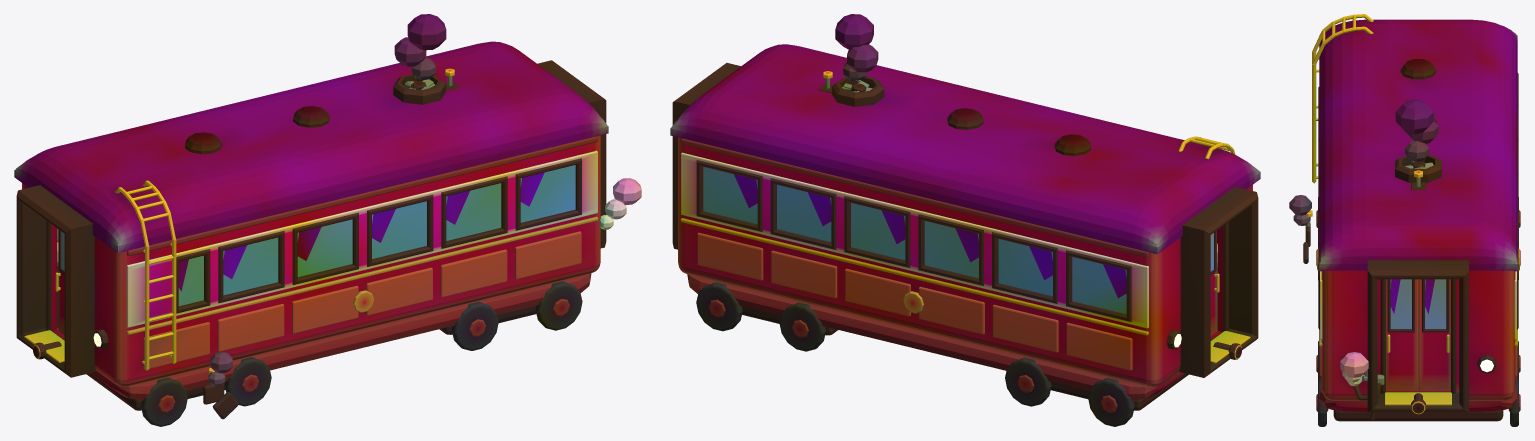
The model's file is DieselCoach_Blockout.glb.
3 views of the same model, side by side, from view 1: azimuth 30°, elevation 25°; view 2: azimuth 150°, elevation 25°; view 3: azimuth 270°, elevation 25° (orthographic). The views are drawn at different scales.
Visible parts, largest first — view 1: Roof, Body, Windows, Livery, Underframe, Ends, WindowBand, RoofLadder, Broken_Bits__Vent, Broken_Bits__BrakeHose, Broken_Bits__AxleBox, EndDoorLeaf_R_Rear; view 2: Roof, Windows, Body, Livery, Underframe, Ends, WindowBand, Broken_Bits__Vent, EndDoorLeaf_L_Rear; view 3: Roof, Body, Ends, Underframe, EndDoorLeaf_L_Front, EndDoorLeaf_R_Front, Broken_Bits__Vent, RoofLadder, Windows, Broken_Bits__BrakeHose, Broken_Bits__AxleBox, WindowBand (+2 smaller).
Part boxes in pixels (bbox=[...]): Roof: bbox=[14, 41, 608, 252]; Body: bbox=[22, 135, 600, 386]; Windows: bbox=[57, 158, 581, 313]; Livery: bbox=[126, 136, 598, 370]; Underframe: bbox=[86, 273, 591, 426]; Ends: bbox=[16, 60, 606, 377]; WindowBand: bbox=[126, 150, 597, 327]; RoofLadder: bbox=[114, 180, 176, 370]; Broken_Bits__Vent: bbox=[394, 14, 446, 89]; Broken_Bits__BrakeHose: bbox=[600, 178, 641, 229]; Broken_Bits__AxleBox: bbox=[208, 351, 238, 419]; EndDoorLeaf_R_Rear: bbox=[55, 229, 64, 335]; Roof: bbox=[670, 44, 1260, 254]; Windows: bbox=[696, 160, 1131, 321]; Body: bbox=[678, 137, 1252, 387]; Livery: bbox=[680, 138, 1148, 370]; Underframe: bbox=[687, 274, 1188, 426]; Ends: bbox=[672, 63, 1258, 377]; WindowBand: bbox=[681, 152, 1148, 328]; Broken_Bits__Vent: bbox=[835, 14, 878, 91]; EndDoorLeaf_L_Rear: bbox=[1210, 230, 1219, 335]; Roof: bbox=[1319, 19, 1517, 270]; Body: bbox=[1321, 270, 1515, 400]; Ends: bbox=[1342, 260, 1496, 412]; Underframe: bbox=[1316, 197, 1520, 426]; EndDoorLeaf_L_Front: bbox=[1386, 279, 1418, 390]; EndDoorLeaf_R_Front: bbox=[1418, 279, 1450, 390]; Broken_Bits__Vent: bbox=[1395, 99, 1438, 168]; RoofLadder: bbox=[1312, 14, 1373, 183]; Windows: bbox=[1318, 73, 1518, 329]; Broken_Bits__BrakeHose: bbox=[1340, 352, 1381, 420]; Broken_Bits__AxleBox: bbox=[1289, 195, 1311, 263]; WindowBand: bbox=[1320, 271, 1516, 339].
Size of the model in its own units: 8.45 by 4.21 by 3.1.
